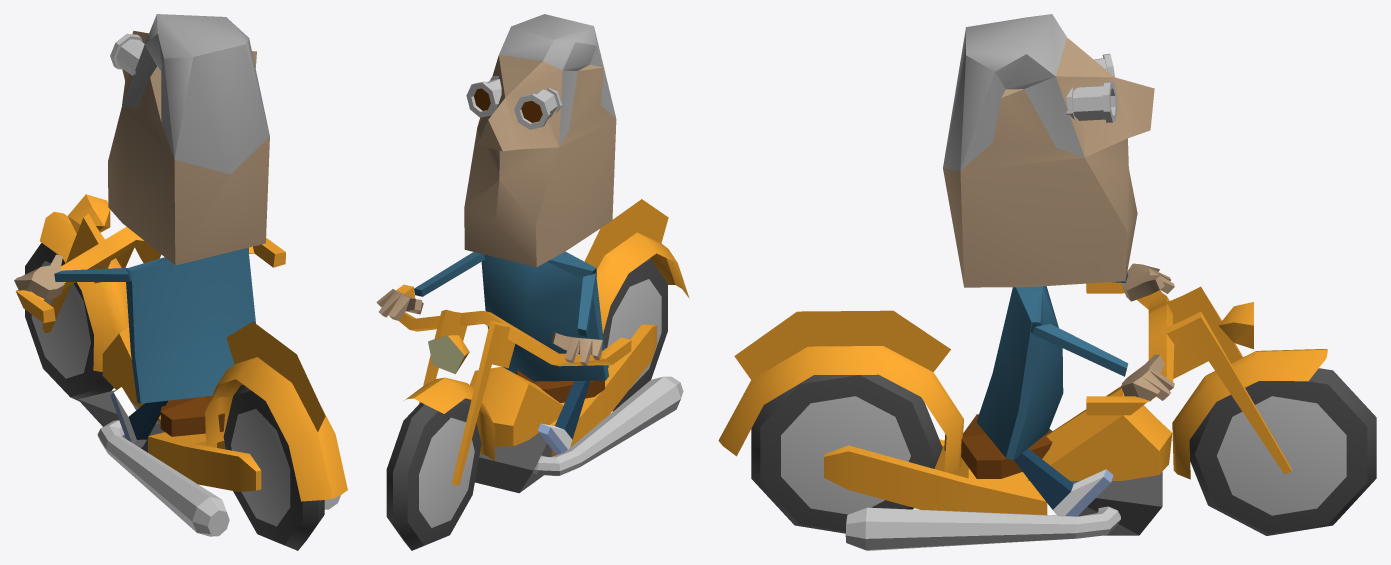
Rendered from moto.fbx.
3 views of the same model, side by side, from view 1: azimuth 30°, elevation 25°; view 2: azimuth 150°, elevation 25°; view 3: azimuth 270°, elevation 25° (orthographic). The views are drawn at different scales.
Visible parts, largest first — view 1: Mesh; view 2: Mesh; view 3: Mesh.
Boxes of the visible parts, x1,y1,x2,y2 form: Mesh: (14,14,347,550); Mesh: (376,14,689,550); Mesh: (718,14,1376,550).
Bounding box in the file's own units: 93.21 × 171 × 200.
